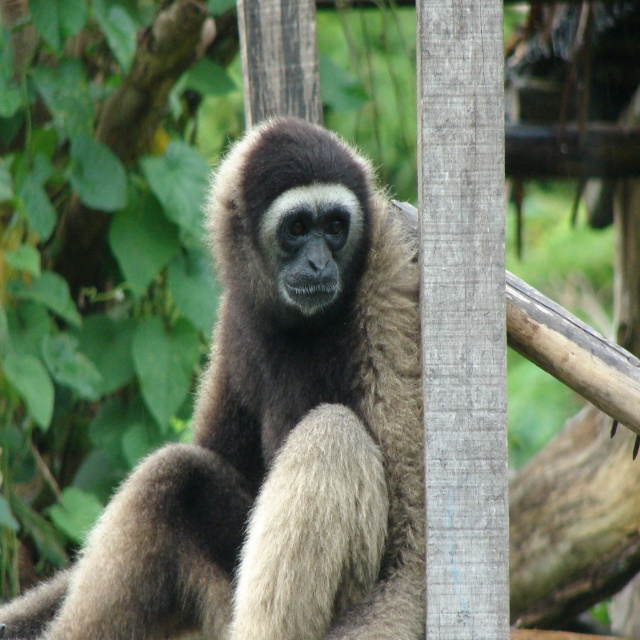Monkey: (95, 100, 484, 638)
